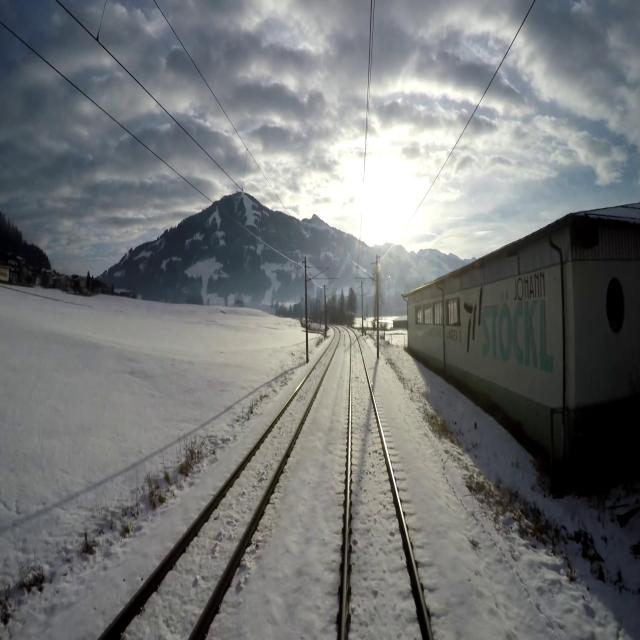rail-track: (104, 329, 338, 639), (345, 332, 427, 639)
